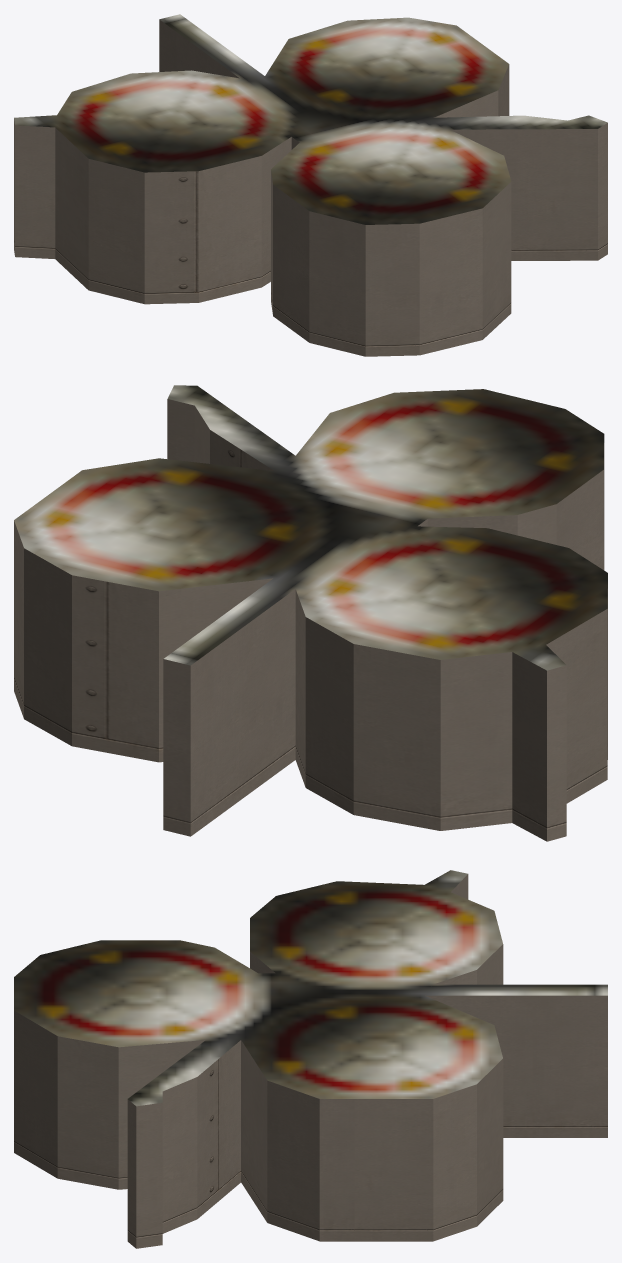
File: fuel_tank_light_37.glb
3 renders of one model, top to bottom at view 1: azimuth 30°, elevation 25°; view 2: azimuth 150°, elevation 25°; view 3: azimuth 270°, elevation 25°, orthographic. The views are drawn at different scales.
Visible parts, largest first — view 1: buildings/saxarba/fuel_tanks/fuel_tank_light_37; view 2: buildings/saxarba/fuel_tanks/fuel_tank_light_37; view 3: buildings/saxarba/fuel_tanks/fuel_tank_light_37.
Boxes of the visible parts, x1=… form: buildings/saxarba/fuel_tanks/fuel_tank_light_37: x1=14, y1=14, x2=607, y2=356; buildings/saxarba/fuel_tanks/fuel_tank_light_37: x1=14, y1=385, x2=607, y2=841; buildings/saxarba/fuel_tanks/fuel_tank_light_37: x1=14, y1=870, x2=607, y2=1248.
Bounding box in the file's own units: 64 × 18 × 68.
